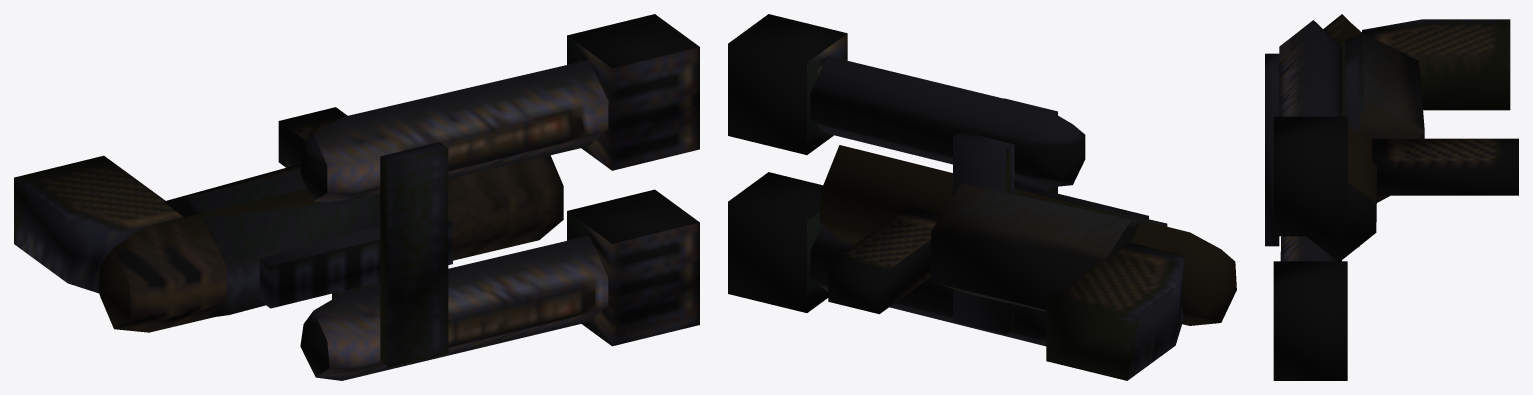
The model's file is g_nail.gltf.
3 renders of one model, left to right at view 1: azimuth 30°, elevation 25°; view 2: azimuth 150°, elevation 25°; view 3: azimuth 270°, elevation 25°, orthographic. The views are drawn at different scales.
Visible parts, largest first — view 1: mesh0_noesis_meshnode_0000; view 2: mesh0_noesis_meshnode_0000; view 3: mesh0_noesis_meshnode_0000.
Part boxes in pixels (<box>): mesh0_noesis_meshnode_0000: <box>14,14,699,380</box>; mesh0_noesis_meshnode_0000: <box>728,14,1236,380</box>; mesh0_noesis_meshnode_0000: <box>1265,14,1518,380</box>.
Size of the model in its own units: 26.87 by 12.75 by 12.82.
1 material, 1 textured.
